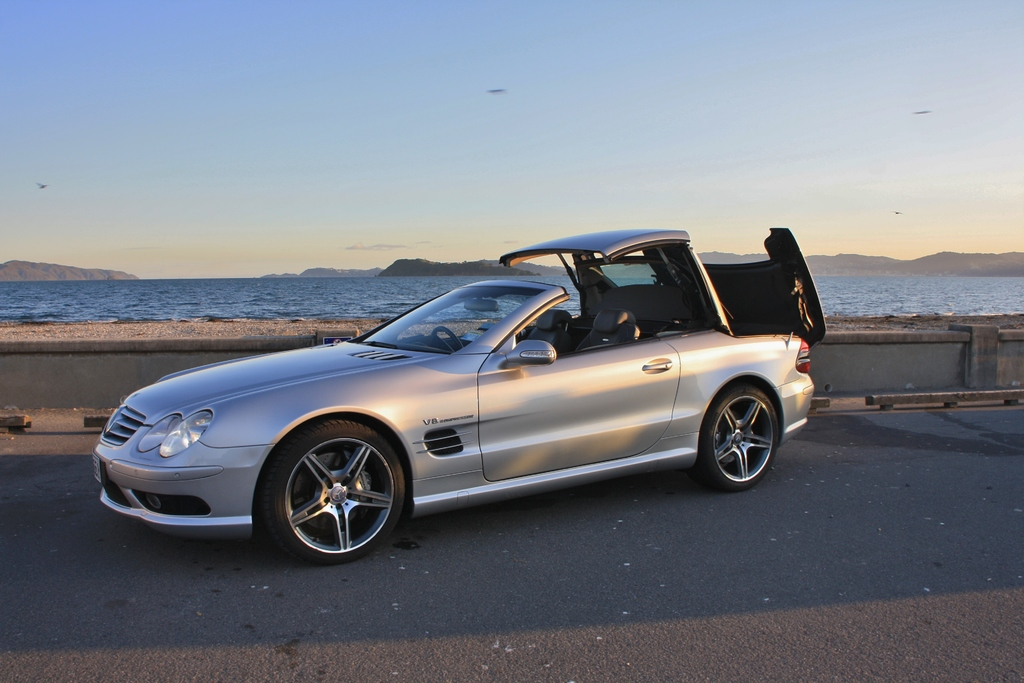Car: (89, 226, 828, 566)
